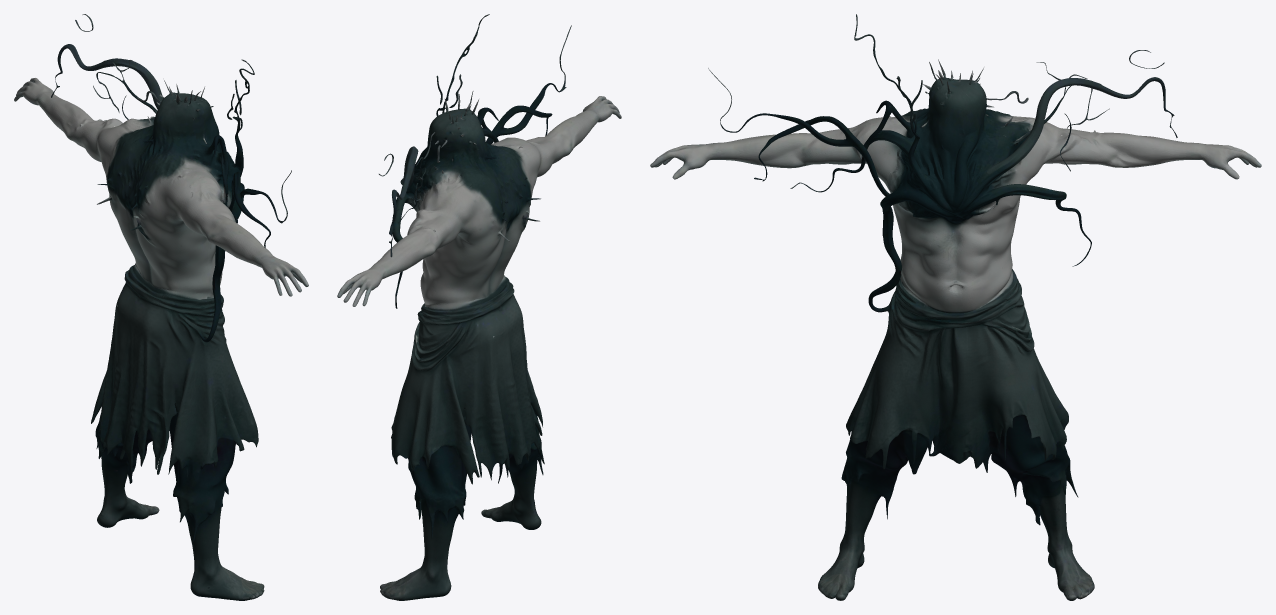
Rendered from posessed 1.glb.
3 renders of one model, left to right at view 1: azimuth 30°, elevation 25°; view 2: azimuth 150°, elevation 25°; view 3: azimuth 270°, elevation 25°, orthographic. The views are drawn at different scales.
Parts seen in each view (by area): view 1: tripo_node_a22bbd71-dcaa-4092-9ce1-19a5755a9847; view 2: tripo_node_a22bbd71-dcaa-4092-9ce1-19a5755a9847; view 3: tripo_node_a22bbd71-dcaa-4092-9ce1-19a5755a9847.
Boxes of the visible parts, x1,y1,x2,y2 form: tripo_node_a22bbd71-dcaa-4092-9ce1-19a5755a9847: [14, 14, 308, 600]; tripo_node_a22bbd71-dcaa-4092-9ce1-19a5755a9847: [337, 14, 621, 600]; tripo_node_a22bbd71-dcaa-4092-9ce1-19a5755a9847: [650, 14, 1261, 600].
Size of the model in its own units: 0.2414 by 0.9821 by 0.938.
Materials: 1 (1 with a texture image).
